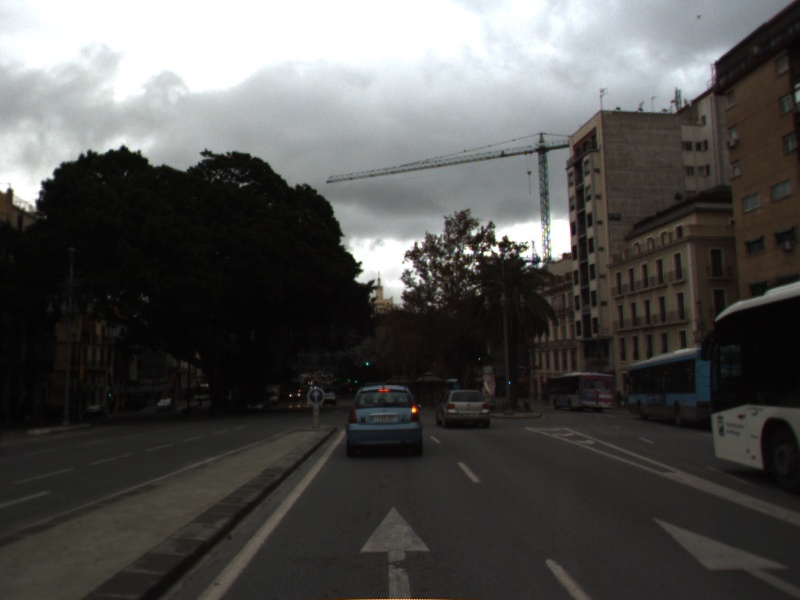STRAIGHT: (649, 513, 800, 596), (356, 502, 434, 600)
